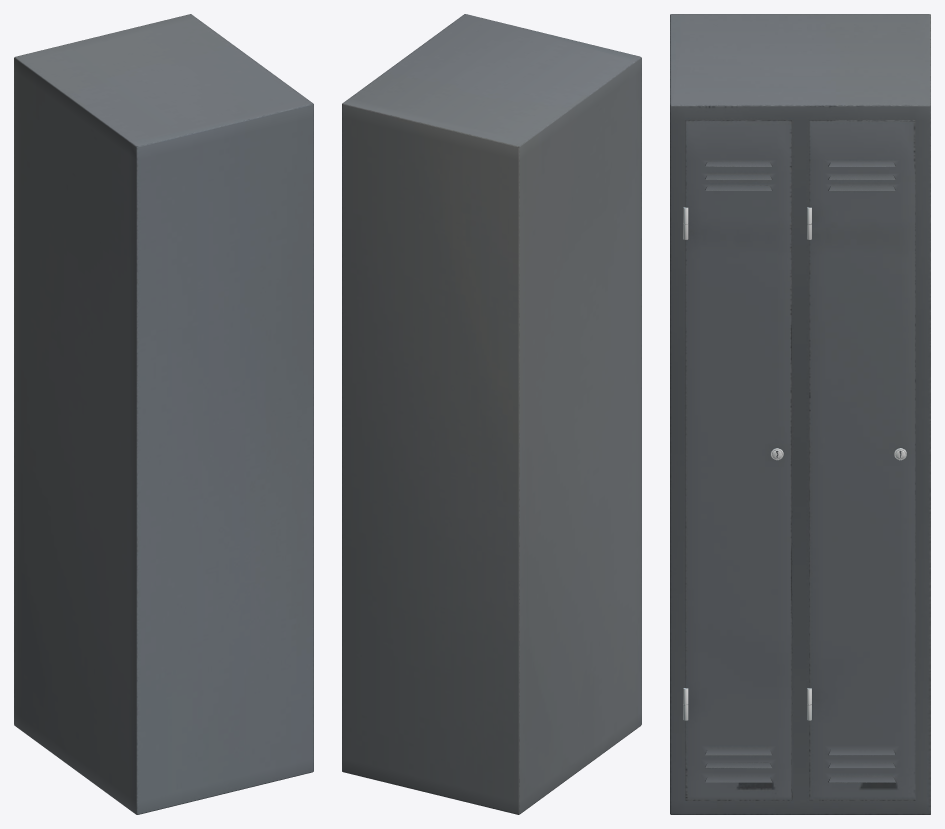
Rendered from bornes_grey_laquered_metal.glb.
3 views of the same model, side by side, from view 1: azimuth 30°, elevation 25°; view 2: azimuth 150°, elevation 25°; view 3: azimuth 270°, elevation 25° (orthographic). The views are drawn at different scales.
Visible parts, largest first — view 1: bornes-grey; view 2: bornes-grey; view 3: bornes-grey.
Part boxes in pixels (x1,y1,x2,y2): bornes-grey: [14, 14, 313, 814]; bornes-grey: [342, 14, 641, 814]; bornes-grey: [670, 14, 930, 814].
Size of the model in its own units: 0.5065 by 1.8 by 0.5997.
Materials: 1 (1 with a texture image).
